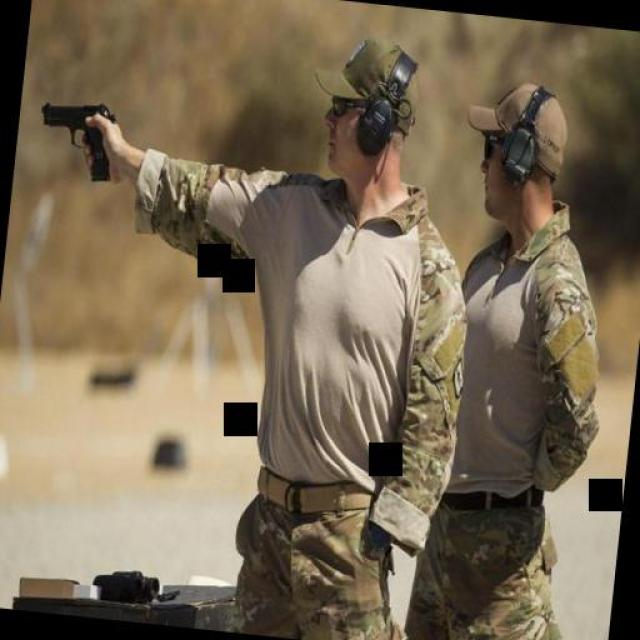gun: (31, 95, 124, 189)
